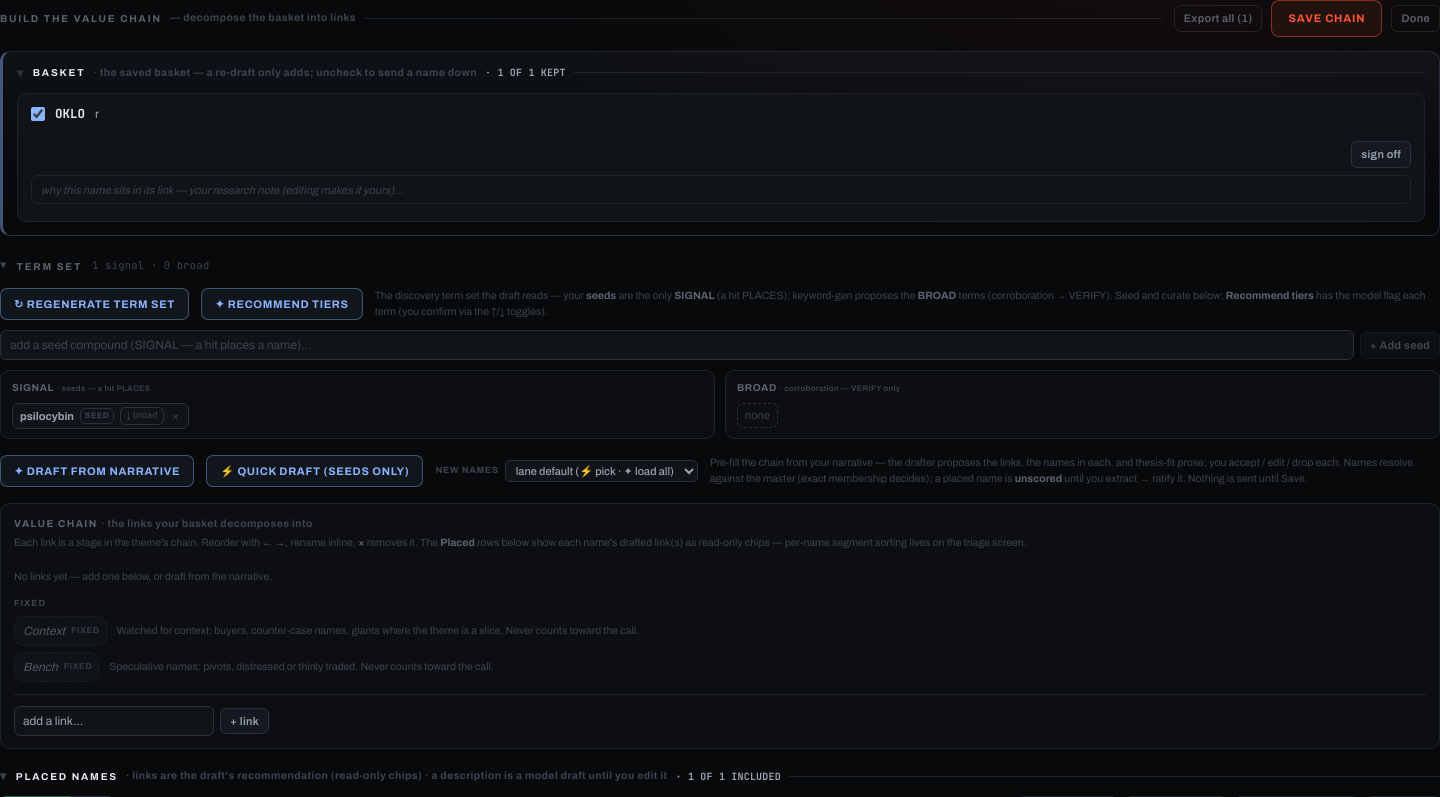
Test: ChainEditor — pick-mode routing (the load-mode choice) › an explicit 'auto-load all' overrides the ⚡ lane default — the quick draft auto-loads
This screenshot has width=1440, height=797.
Select "auto-load all" in the dropdown named "draft load mode" at (601, 471), box [505,460,698,482]
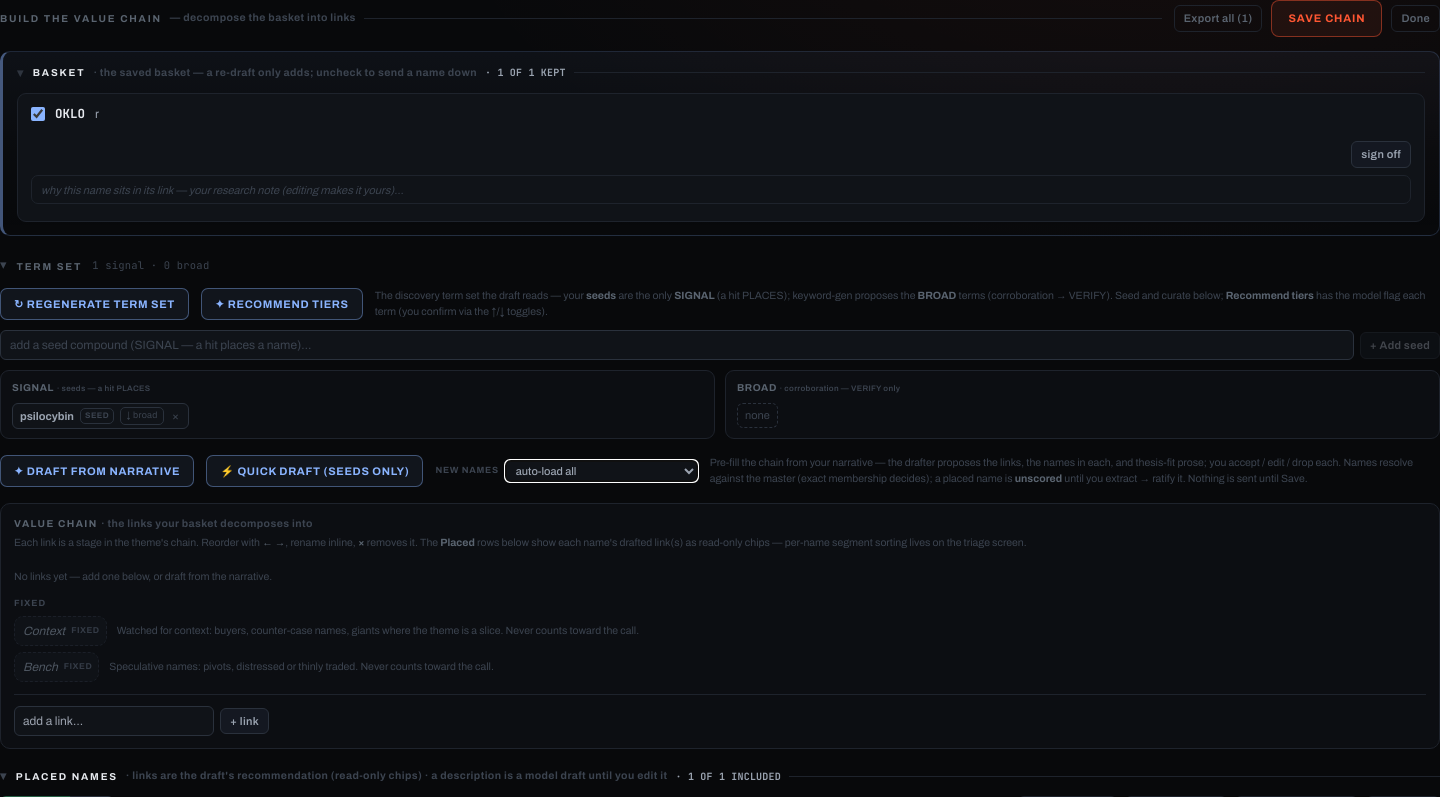
Click the button "⚡ Quick draft (seeds only)" at (315, 471), box [206,455,423,487]
(page scrolled)
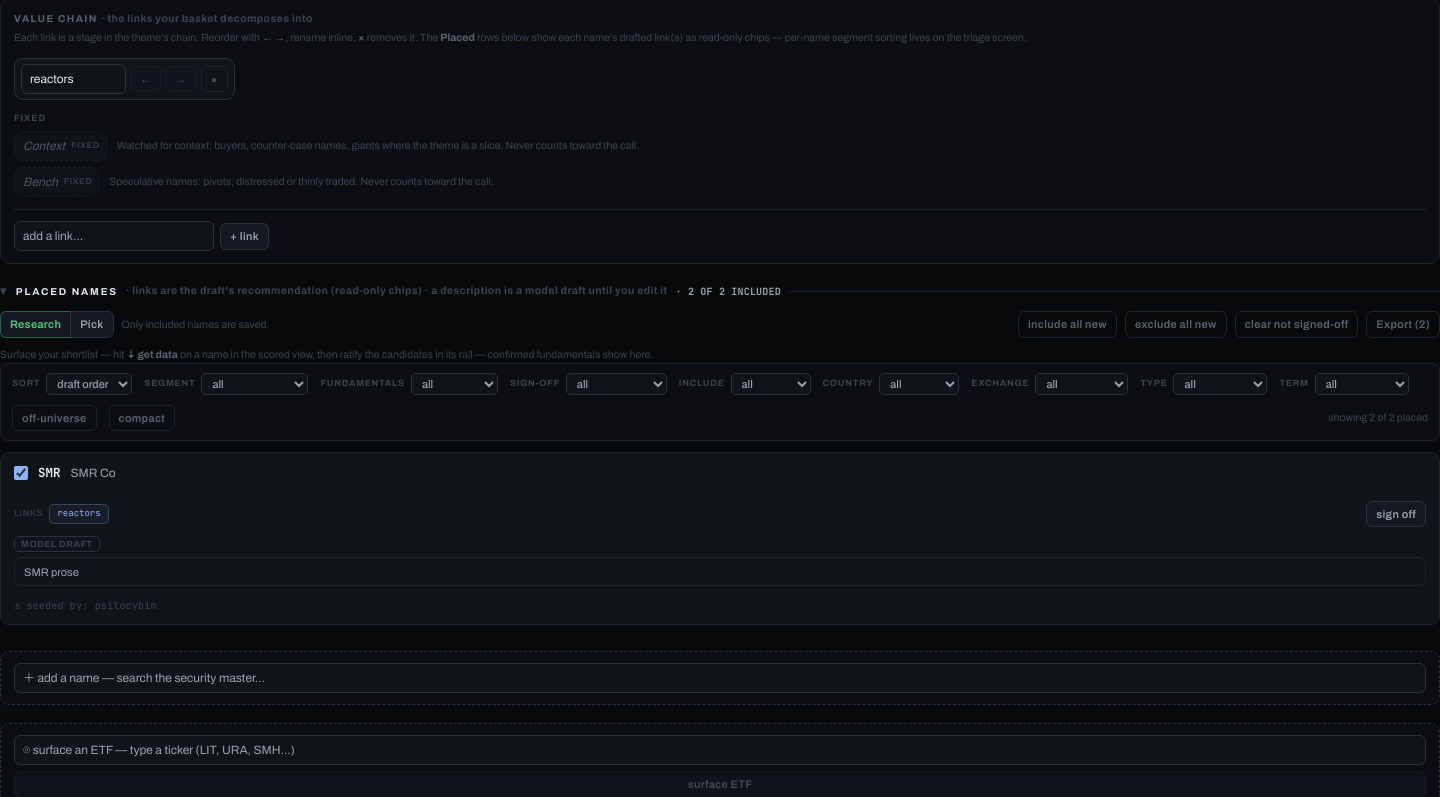
Result: the checkbox named "include SMR" is shown at [14,466,28,480]
